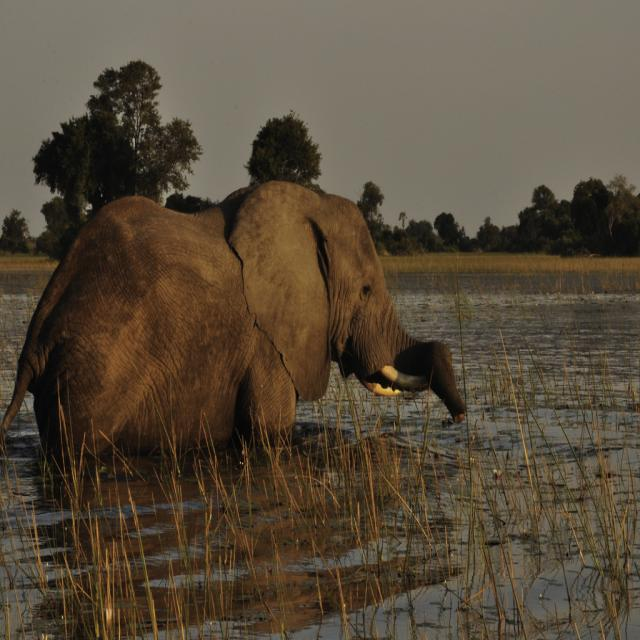elephant: (13, 168, 456, 497)
